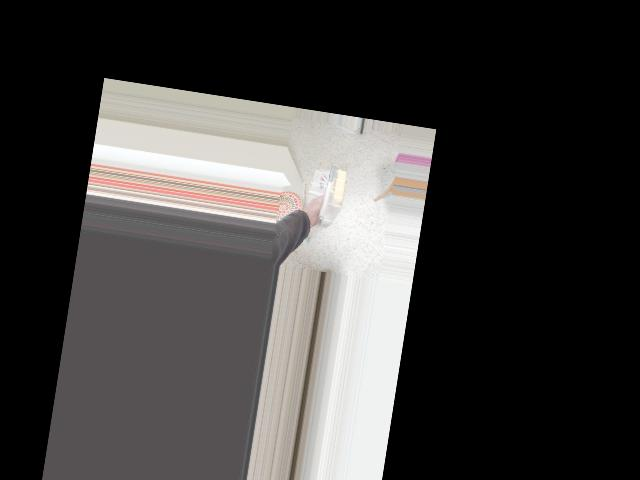cheese: (305, 162, 355, 227)
